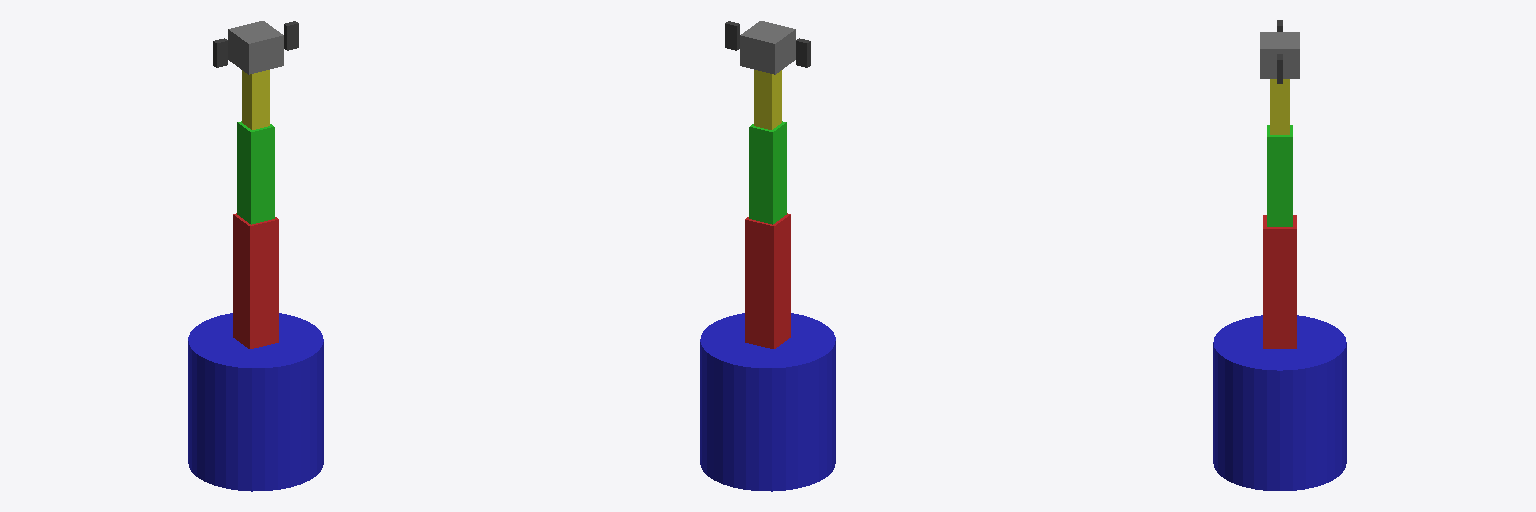
URDF robot description (simple_arm):
<?xml version="1.0"?>
<robot name="simple_arm">

  <!-- Base Link -->
  <link name="base_link">
    <inertial>
      <mass value="1.0"/>
      <inertia ixx="0.1" ixy="0" ixz="0" iyy="0.1" iyz="0" izz="0.1"/>
    </inertial>
    <visual>
      <origin xyz="0 0 0.1" rpy="0 0 0"/>
      <geometry>
        <cylinder radius="0.1" length="0.2"/>
      </geometry>
      <material name="blue">
        <color rgba="0.2 0.2 0.8 1"/>
      </material>
    </visual>
    <collision>
      <origin xyz="0 0 0.1" rpy="0 0 0"/>
      <geometry>
        <cylinder radius="0.1" length="0.2"/>
      </geometry>
    </collision>
  </link>

  <!-- Link 1 -->
  <link name="link1">
    <inertial>
      <mass value="0.5"/>
      <inertia ixx="0.05" ixy="0" ixz="0" iyy="0.05" iyz="0" izz="0.05"/>
    </inertial>
    <visual>
      <origin xyz="0 0 0.1" rpy="0 0 0"/>
      <geometry>
        <box size="0.05 0.05 0.2"/>
      </geometry>
      <material name="red">
        <color rgba="0.8 0.2 0.2 1"/>
      </material>
    </visual>
    <collision>
      <origin xyz="0 0 0.1" rpy="0 0 0"/>
      <geometry>
        <box size="0.05 0.05 0.2"/>
      </geometry>
    </collision>
  </link>

  <!-- Link 2 -->
  <link name="link2">
    <inertial>
      <mass value="0.4"/>
      <inertia ixx="0.04" ixy="0" ixz="0" iyy="0.04" iyz="0" izz="0.04"/>
    </inertial>
    <visual>
      <origin xyz="0 0 0.075" rpy="0 0 0"/>
      <geometry>
        <box size="0.04 0.04 0.15"/>
      </geometry>
      <material name="green">
        <color rgba="0.2 0.8 0.2 1"/>
      </material>
    </visual>
    <collision>
      <origin xyz="0 0 0.075" rpy="0 0 0"/>
      <geometry>
        <box size="0.04 0.04 0.15"/>
      </geometry>
    </collision>
  </link>

  <!-- Link 3 -->
  <link name="link3">
    <inertial>
      <mass value="0.3"/>
      <inertia ixx="0.03" ixy="0" ixz="0" iyy="0.03" iyz="0" izz="0.03"/>
    </inertial>
    <visual>
      <origin xyz="0 0 0.05" rpy="0 0 0"/>
      <geometry>
        <box size="0.03 0.03 0.1"/>
      </geometry>
      <material name="yellow">
        <color rgba="0.8 0.8 0.2 1"/>
      </material>
    </visual>
    <collision>
      <origin xyz="0 0 0.05" rpy="0 0 0"/>
      <geometry>
        <box size="0.03 0.03 0.1"/>
      </geometry>
    </collision>
  </link>

  <!-- Gripper Base -->
  <link name="gripper_base">
    <inertial>
      <mass value="0.2"/>
      <inertia ixx="0.02" ixy="0" ixz="0" iyy="0.02" iyz="0" izz="0.02"/>
    </inertial>
    <visual>
      <origin xyz="0 0 0.025" rpy="0 0 0"/>
      <geometry>
        <box size="0.06 0.06 0.05"/>
      </geometry>
      <material name="gray">
        <color rgba="0.5 0.5 0.5 1"/>
      </material>
    </visual>
    <collision>
      <origin xyz="0 0 0.025" rpy="0 0 0"/>
      <geometry>
        <box size="0.06 0.06 0.05"/>
      </geometry>
    </collision>
  </link>

  <!-- Gripper Finger 1 -->
  <link name="gripper_finger1">
    <inertial>
      <mass value="0.05"/>
      <inertia ixx="0.001" ixy="0" ixz="0" iyy="0.001" iyz="0" izz="0.001"/>
    </inertial>
    <visual>
      <geometry>
        <box size="0.02 0.01 0.04"/>
      </geometry>
      <material name="darkgray">
        <color rgba="0.3 0.3 0.3 1"/>
      </material>
    </visual>
    <collision>
      <geometry>
        <box size="0.02 0.01 0.04"/>
      </geometry>
    </collision>
  </link>

  <!-- Gripper Finger 2 -->
  <link name="gripper_finger2">
    <inertial>
      <mass value="0.05"/>
      <inertia ixx="0.001" ixy="0" ixz="0" iyy="0.001" iyz="0" izz="0.001"/>
    </inertial>
    <visual>
      <geometry>
        <box size="0.02 0.01 0.04"/>
      </geometry>
      <material name="darkgray">
        <color rgba="0.3 0.3 0.3 1"/>
      </material>
    </visual>
    <collision>
      <geometry>
        <box size="0.02 0.01 0.04"/>
      </geometry>
    </collision>
  </link>

  <!-- Joints -->
  <joint name="joint1" type="revolute">
    <parent link="base_link"/>
    <child link="link1"/>
    <origin xyz="0 0 0.2" rpy="0 0 0"/>
    <axis xyz="0 0 1"/>
    <limit lower="-3.14159" upper="3.14159" effort="10" velocity="1"/>
  </joint>

  <joint name="joint2" type="revolute">
    <parent link="link1"/>
    <child link="link2"/>
    <origin xyz="0 0 0.2" rpy="0 0 0"/>
    <axis xyz="0 1 0"/>
    <limit lower="-2.356" upper="2.356" effort="10" velocity="1"/>
  </joint>

  <joint name="joint3" type="revolute">
    <parent link="link2"/>
    <child link="link3"/>
    <origin xyz="0 0 0.15" rpy="0 0 0"/>
    <axis xyz="0 1 0"/>
    <limit lower="-2.356" upper="2.356" effort="10" velocity="1"/>
  </joint>

  <joint name="joint4" type="revolute">
    <parent link="link3"/>
    <child link="gripper_base"/>
    <origin xyz="0 0 0.1" rpy="0 0 0"/>
    <axis xyz="0 0 1"/>
    <limit lower="-2.356" upper="2.356" effort="10" velocity="1"/>
  </joint>

  <joint name="gripper_joint1" type="prismatic">
    <parent link="gripper_base"/>
    <child link="gripper_finger1"/>
    <origin xyz="0.03 0 0.03" rpy="0 0 0"/>
    <axis xyz="1 0 0"/>
    <limit lower="0.01" upper="0.05" effort="10" velocity="1"/>
  </joint>

  <joint name="gripper_joint2" type="prismatic">
    <parent link="gripper_base"/>
    <child link="gripper_finger2"/>
    <origin xyz="-0.03 0 0.03" rpy="0 0 0"/>
    <axis xyz="-1 0 0"/>
    <limit lower="0.01" upper="0.05" effort="10" velocity="1"/>
  </joint>

</robot>

--- Render facts (derived) ---
3 views of the same robot in one strip: view 1: azimuth 30°, elevation 25°; view 2: azimuth 150°, elevation 25°; view 3: azimuth 270°, elevation 25° (orthographic).
Robot: simple_arm — 7 links, 6 joints (4 revolute, 2 prismatic); root link base_link; default pose: joints at zero except 2 at the middle of their limits (gripper_joint1 = 0.03, gripper_joint2 = 0.03).
Links seen in each view (by area): view 1: base_link, link1, link2, gripper_base, link3; view 2: base_link, link1, link2, gripper_base, link3; view 3: base_link, link1, link2, gripper_base, link3.
Boxes of the visible links, bbox=[...] form: base_link: bbox=[188, 313, 323, 491]; link1: bbox=[233, 213, 278, 348]; link2: bbox=[237, 121, 274, 224]; gripper_base: bbox=[228, 21, 283, 74]; link3: bbox=[242, 70, 269, 129]; base_link: bbox=[700, 313, 835, 491]; link1: bbox=[745, 213, 790, 348]; link2: bbox=[749, 121, 786, 224]; gripper_base: bbox=[740, 21, 795, 74]; link3: bbox=[754, 70, 781, 129]; base_link: bbox=[1213, 315, 1346, 490]; link1: bbox=[1263, 215, 1296, 348]; link2: bbox=[1267, 125, 1292, 226]; gripper_base: bbox=[1260, 32, 1299, 78]; link3: bbox=[1270, 79, 1289, 134].
Size in the robot's own frame: 0.2 by 0.2 by 0.7 metres.
Geometry: primitives only (box / cylinder / sphere), no mesh files.
